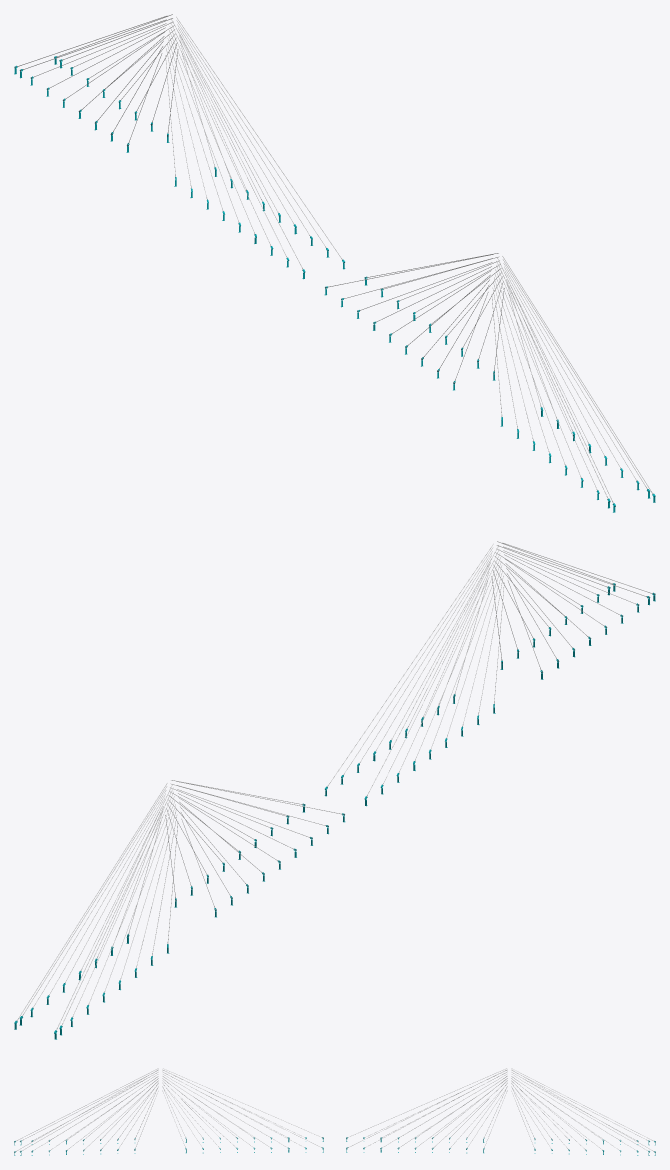
Rendered from CABLES.glb.
The picture shows the model from 3 angles, top to bottom: view 1: azimuth 30°, elevation 25°; view 2: azimuth 150°, elevation 25°; view 3: azimuth 270°, elevation 25°; orthographic projection. The views are drawn at different scales.
Parts seen in each view (by area): view 1: 케이블, 정착구 리브측판; view 2: 케이블, 정착구 리브측판; view 3: 케이블.
Boxes of the visible parts, left/top/right/bottom form: 케이블: left=18, top=14, right=650, bottom=500; 정착구 리브측판: left=14, top=59, right=655, bottom=512; 케이블: left=19, top=541, right=651, bottom=1027; 정착구 리브측판: left=14, top=586, right=655, bottom=1039; 케이블: left=18, top=1068, right=651, bottom=1150.
Bounding box in the file's own units: 18.06 × 62.02 × 442.
